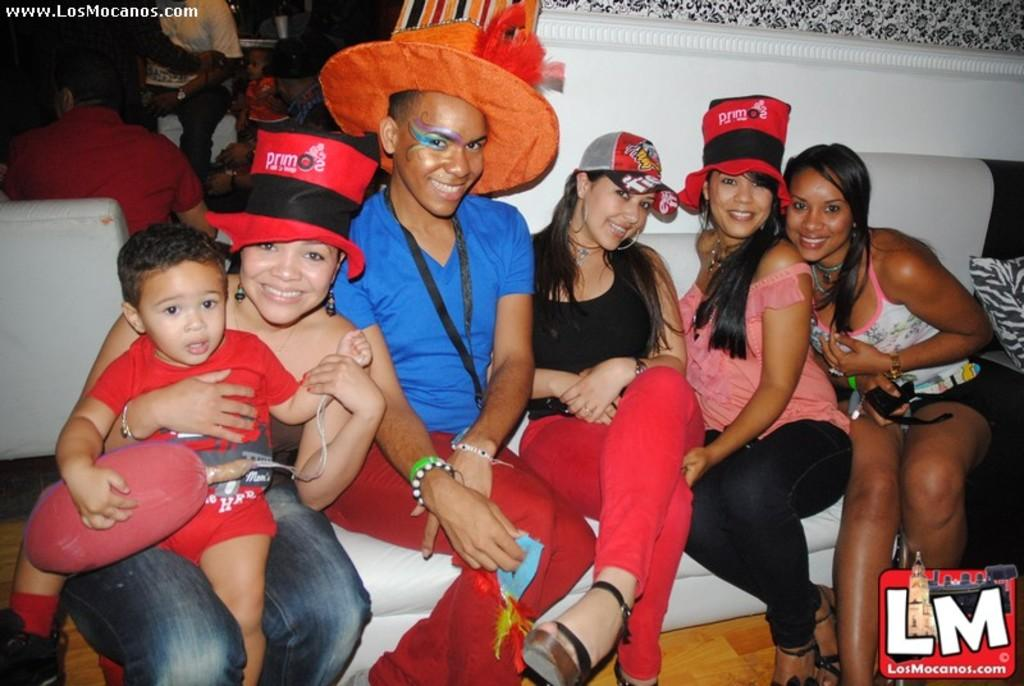Hat: (315, 0, 561, 193), (207, 134, 384, 277), (679, 92, 788, 216), (574, 130, 680, 214)
